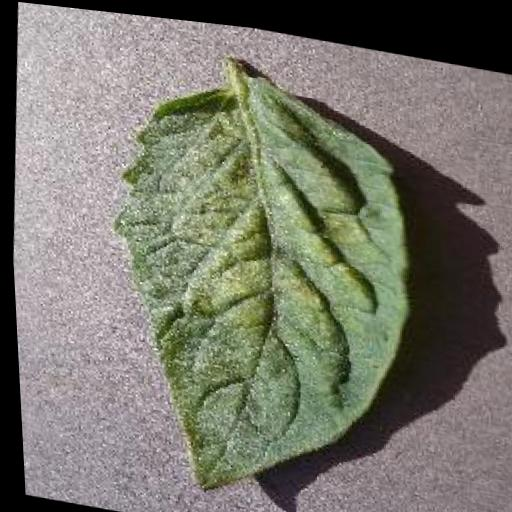Spider Mites: (89, 47, 428, 512)
